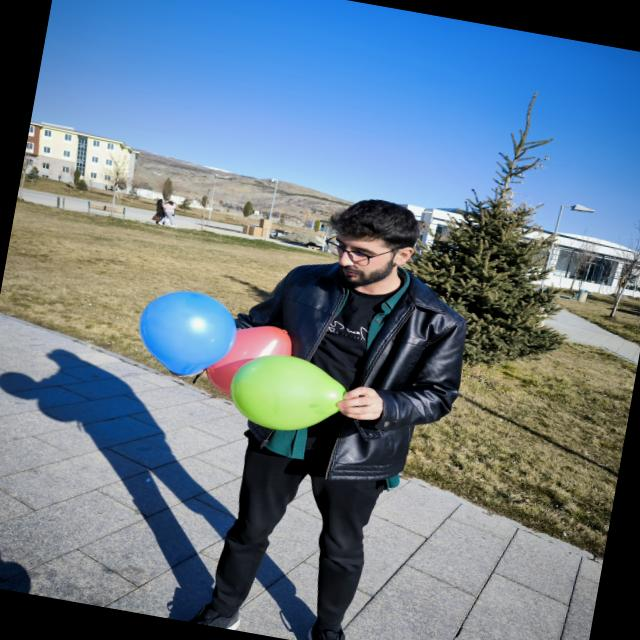balloon: (230, 355, 346, 430), (139, 291, 236, 375), (207, 326, 291, 393)
